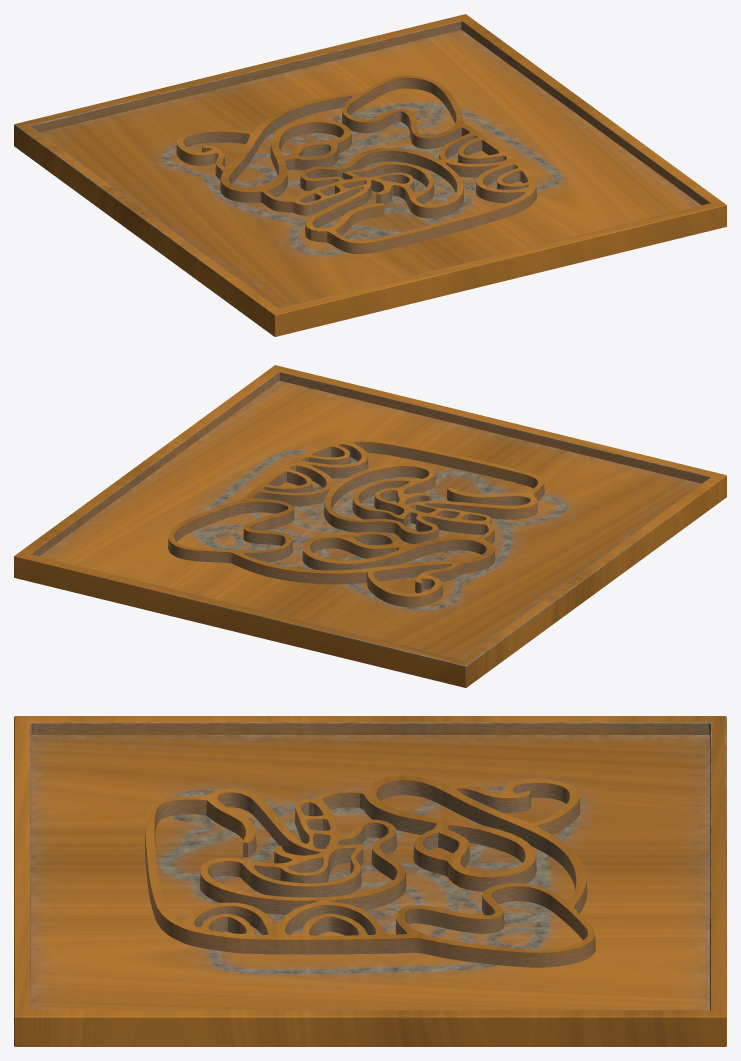
Rendered from Woodworks_Mayan_Glyph_ZOTZ_NEW.fbx.
The picture shows the model from 3 angles, top to bottom: view 1: azimuth 30°, elevation 25°; view 2: azimuth 150°, elevation 25°; view 3: azimuth 270°, elevation 25°; orthographic projection. The views are drawn at different scales.
Visible parts, largest first — view 1: Woodwork_Canvas_LP, Woodwork_Frame, Woodwork_ZOTZ_LP; view 2: Woodwork_Canvas_LP, Woodwork_Frame, Woodwork_ZOTZ_LP; view 3: Woodwork_Canvas_LP, Woodwork_ZOTZ_LP, Woodwork_Frame.
Part boxes in pixels (<box>): Woodwork_Canvas_LP: <box>39,30,701,308</box>; Woodwork_Frame: <box>14,14,726,336</box>; Woodwork_ZOTZ_LP: <box>176,75,536,253</box>; Woodwork_Canvas_LP: <box>39,381,701,659</box>; Woodwork_Frame: <box>14,365,726,687</box>; Woodwork_ZOTZ_LP: <box>168,439,544,607</box>; Woodwork_Canvas_LP: <box>31,735,709,1010</box>; Woodwork_ZOTZ_LP: <box>145,775,595,967</box>; Woodwork_Frame: <box>14,716,726,1046</box>.
Size of the model in its own units: 62.99 by 3.22 by 62.99.
